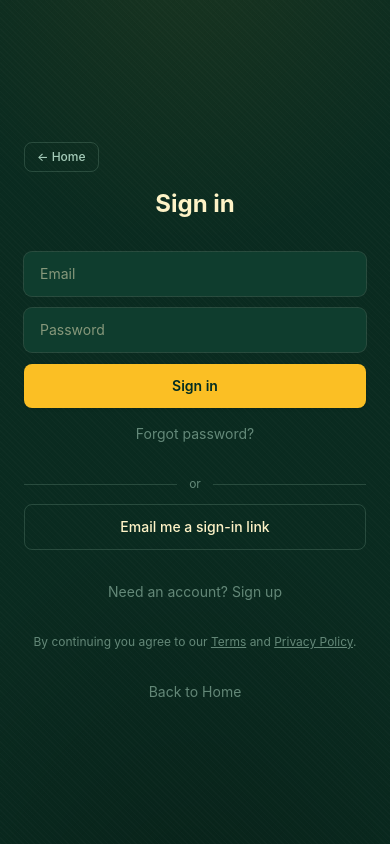
Test: magic link › maps a provider error through the translated error table
The image size is (390, 844).
Type "nick@example.com" into the field with placeholder "Email" at coordinates (195, 274), box [24,252,366,296]
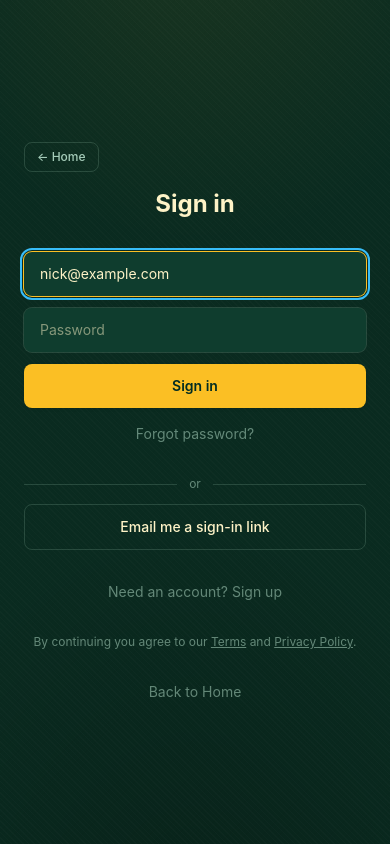
Click the button "Email me a sign-in link" at coordinates (195, 527), box [24,504,366,550]
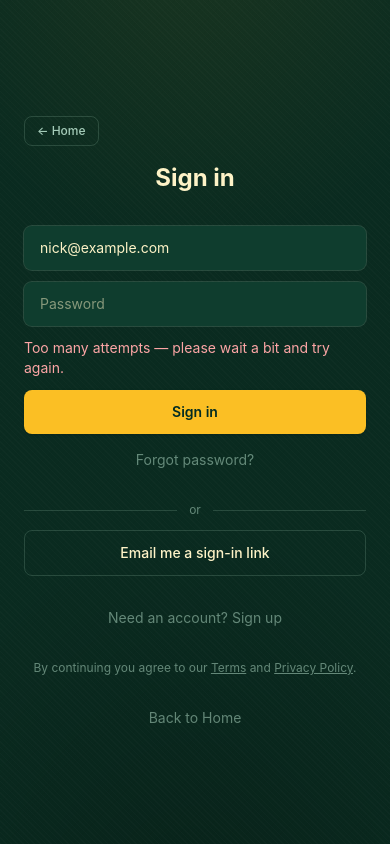
Check: the text "Too many attempts — please wait a bit and try again." is shown, box [24,338,366,378]
